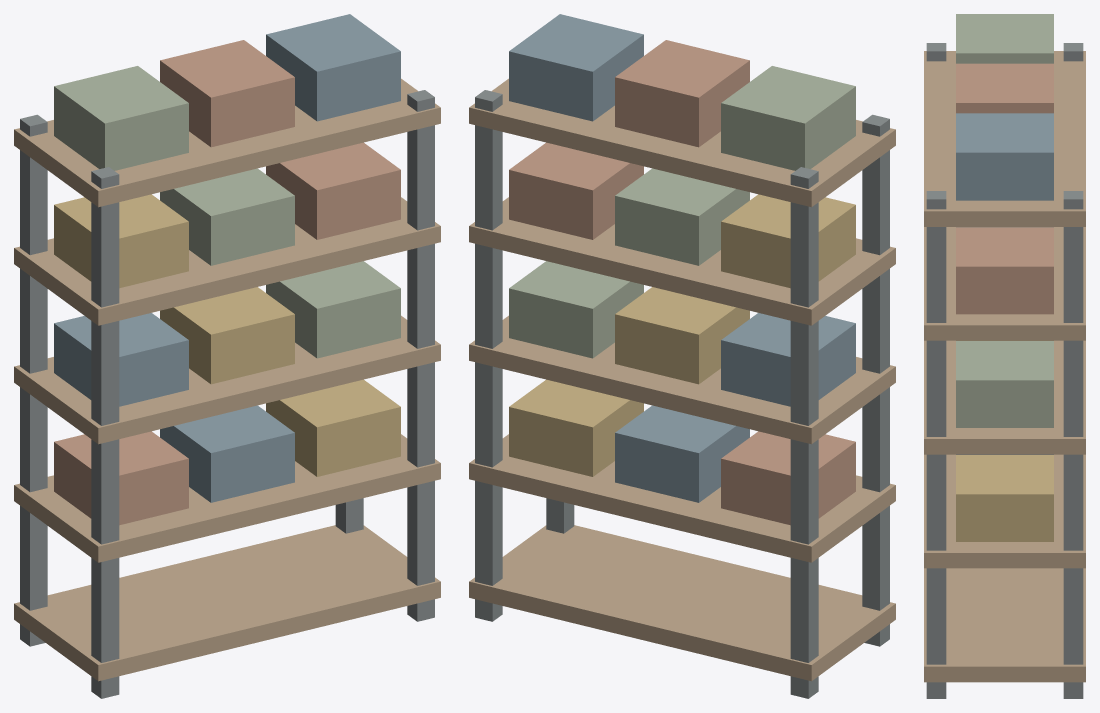
The model's file is shelving.glb.
3 renders of one model, left to right at view 1: azimuth 30°, elevation 25°; view 2: azimuth 150°, elevation 25°; view 3: azimuth 270°, elevation 25°, orthographic. The views are drawn at different scales.
Visible parts, largest first — view 1: shelf0, shelf4, shelf1, shelf2, shelf3, post-0.7150000000000001_0.28, post0.7150000000000001_0.28, post-0.7150000000000001_-0.28, bin4_0, bin4_1, bin4_2, bin3_1 (+9 smaller); view 2: shelf0, shelf4, shelf1, shelf2, shelf3, post-0.7150000000000001_-0.28, post0.7150000000000001_-0.28, post-0.7150000000000001_0.28, bin4_0, bin4_1, bin4_2, bin3_1 (+9 smaller); view 3: shelf0, shelf4, post0.7150000000000001_-0.28, post0.7150000000000001_0.28, bin3_2, bin4_2, bin1_2, bin2_2, shelf1, shelf2, shelf3, bin4_1 (+3 smaller).
Boxes of the visible parts, x1,y1,x2,y2 form: shelf0: [14, 525, 440, 681]; shelf4: [14, 78, 440, 207]; shelf1: [14, 434, 440, 562]; shelf2: [14, 315, 440, 444]; shelf3: [14, 197, 440, 325]; post-0.7150000000000001_0.28: [91, 167, 119, 698]; post0.7150000000000001_0.28: [407, 90, 434, 621]; post-0.7150000000000001_-0.28: [20, 114, 47, 646]; bin4_0: [54, 66, 188, 170]; bin4_1: [160, 40, 294, 147]; bin4_2: [266, 14, 400, 121]; bin3_1: [160, 168, 294, 265]; shelf0: [469, 525, 895, 681]; shelf4: [469, 78, 895, 207]; shelf1: [469, 434, 895, 562]; shelf2: [469, 315, 895, 444]; shelf3: [469, 197, 895, 325]; post-0.7150000000000001_-0.28: [790, 167, 818, 698]; post0.7150000000000001_-0.28: [475, 90, 502, 621]; post-0.7150000000000001_0.28: [862, 114, 889, 646]; bin4_0: [721, 66, 855, 170]; bin4_1: [615, 40, 749, 147]; bin4_2: [509, 14, 643, 121]; bin3_1: [615, 168, 749, 265]; shelf0: [924, 568, 1085, 682]; shelf4: [924, 51, 1085, 226]; post0.7150000000000001_-0.28: [1063, 191, 1083, 698]; post0.7150000000000001_0.28: [926, 191, 946, 698]; bin3_2: [956, 227, 1053, 314]; bin4_2: [956, 113, 1053, 200]; bin1_2: [956, 455, 1053, 541]; bin2_2: [956, 341, 1053, 427]; shelf1: [924, 454, 1085, 568]; shelf2: [924, 340, 1085, 454]; shelf3: [924, 227, 1085, 340]; bin4_1: [956, 63, 1053, 113].
Size of the model in its own units: 1.55 by 2.42 by 0.66.
